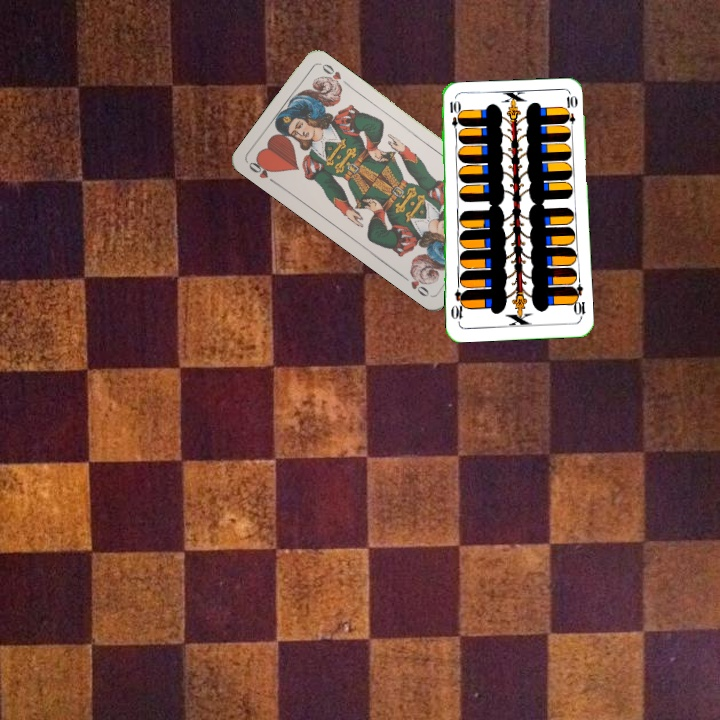E10: (568, 280, 587, 321), (446, 97, 460, 137)
HO: (244, 156, 280, 187)
